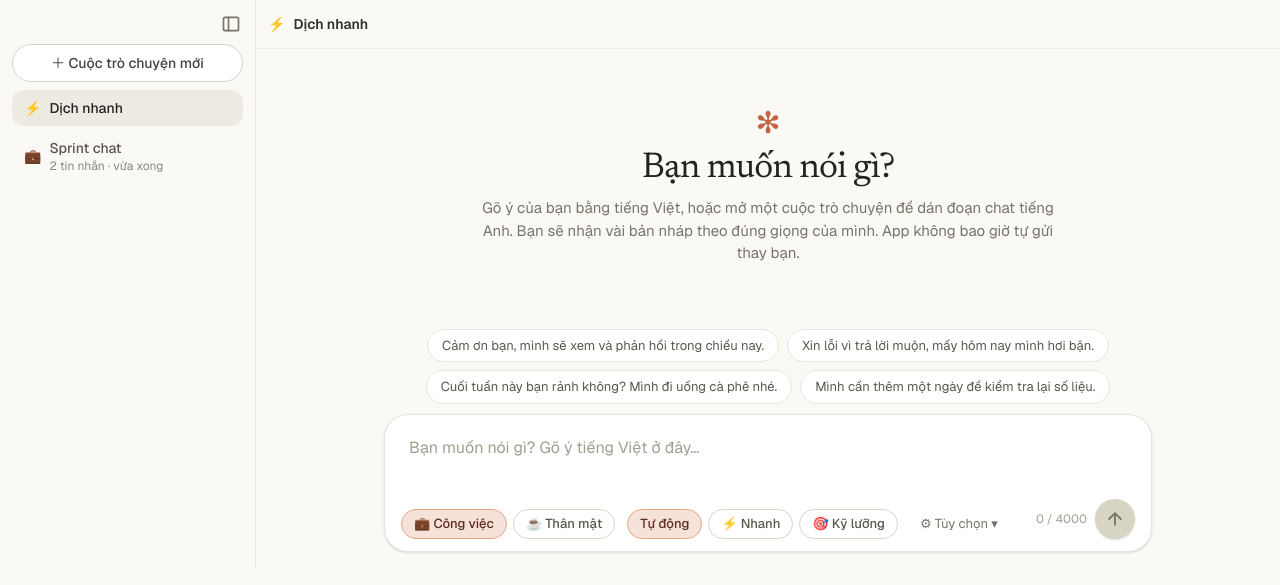
Test: ReplyWorkspace › goes back to Dịch nhanh
Click the button "💼 Sprint chat 2 tin nhắn · vừa xong" at x=128, y=156, box [12,130,243,182]
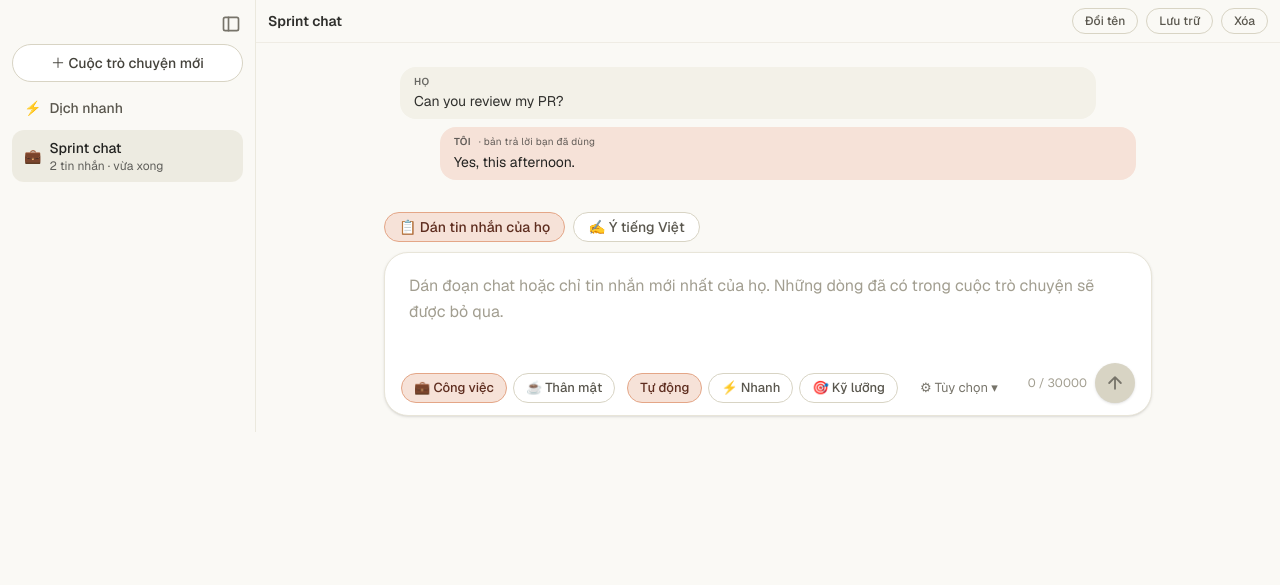
Now the text "Can you review my PR?" is shown, box [414,92,564,110]
Click the button "⚡ Dịch nhanh" at x=128, y=108, box [12,90,243,126]
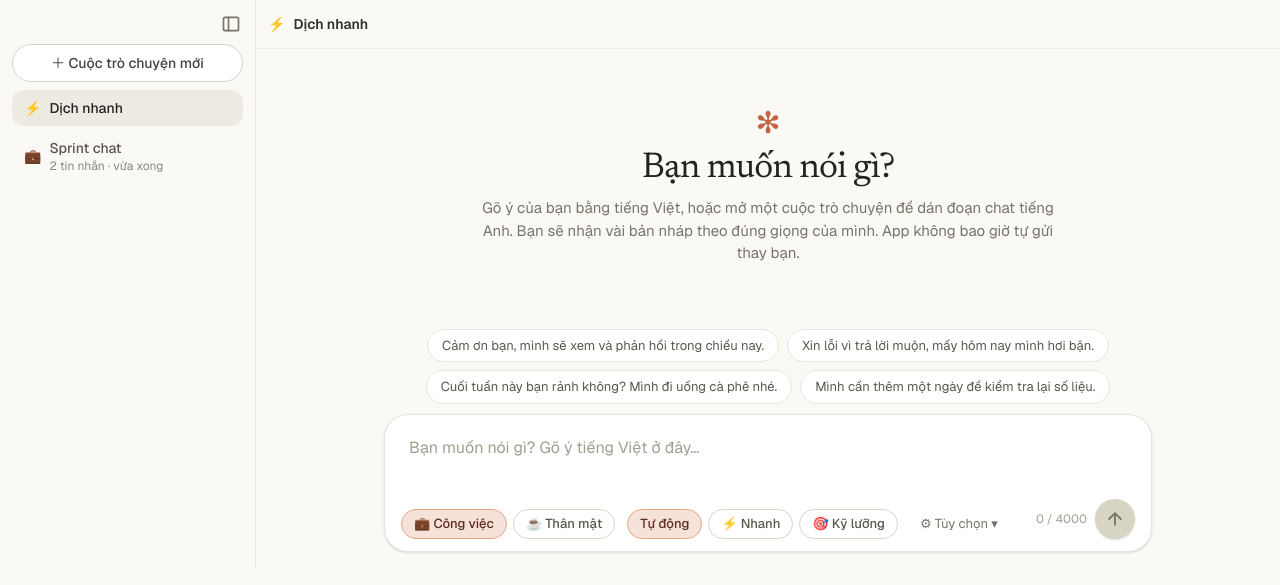
Now the text "Can you review my PR?" is gone
Now the button named "Viết bản nháp" is shown, box [1095,498,1135,538]
